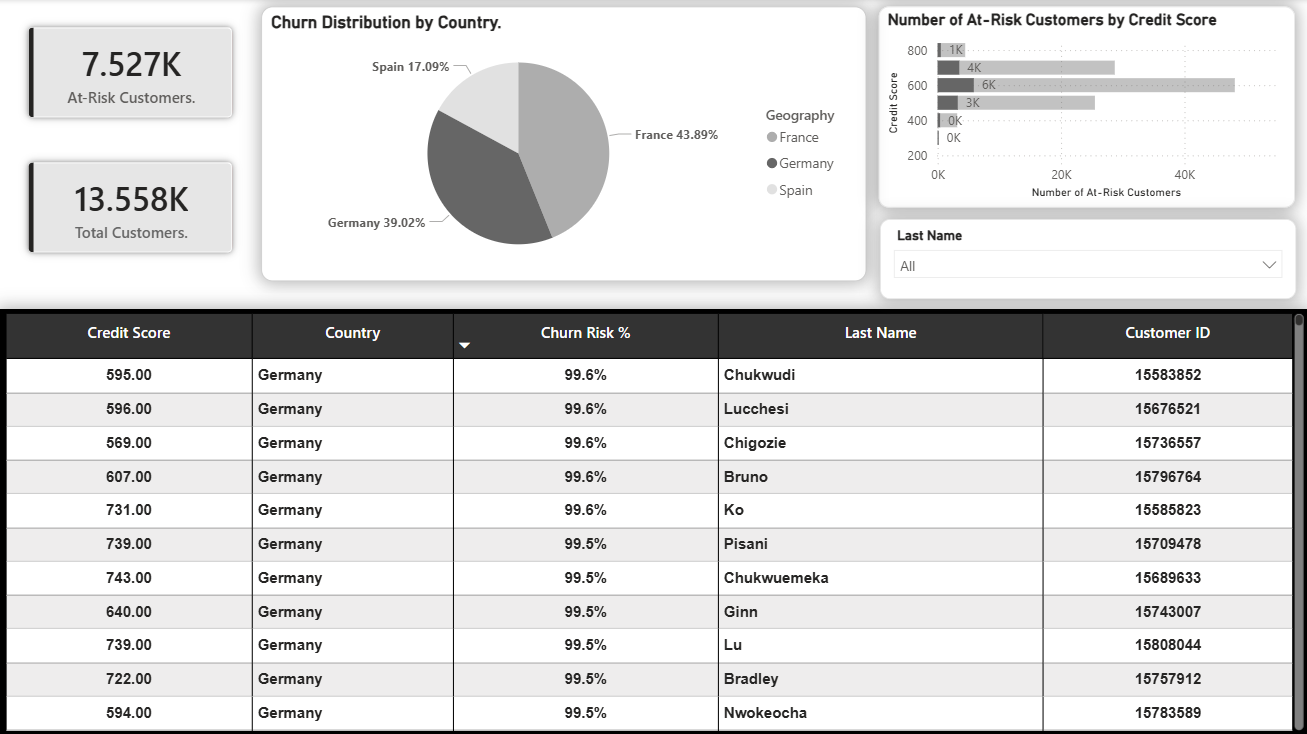

The page's visual inventory and layout, read from the dashboard file:
{"tool":"powerbi","page":{"name":"Page 1","canvas":[1280,720],"ordinal":0},"visuals":[{"type":"cardVisual","fields":{"Data":["CountNonNull(final_churn_predictions.id)"]},"box":[0,132.1,255,144],"z":0},{"type":"cardVisual","fields":{"Data":["CountNonNull(final_churn_predictions.id)"]},"box":[0,0,255.6,144.3],"z":1000},{"type":"pieChart","title":"Churn Distribution by Country.","fields":{"Category":["final_churn_predictions.Geography"],"Y":["Sum(final_churn_predictions.id)"]},"box":[255.6,7.3,591.9,269],"z":2000},{"type":"tableEx","fields":{"Values":["final_churn_predictions.CreditScore","final_churn_predictions.Geography","final_churn_predictions.Churn_Probability","final_churn_predictions.Surname","final_churn_predictions.CustomerId"]},"box":[0,303.3,1280.3,417],"z":3000},{"type":"clusteredBarChart","fields":{"Category":["final_churn_predictions.CreditScore (bins)"],"Y":["CountNonNull(final_churn_predictions.Churn_Probability)"]},"box":[859.7,7.3,407.2,196.9],"z":4000},{"type":"slicer","fields":{"Values":["final_churn_predictions.Surname"]},"box":[860.9,215.2,407.2,78.3],"z":5000}]}

Visuals, with their boxes in screenshot pixels (x1, y1, x2, y2), scaled from the page's 1280x720 canvas onto the 1307x734 screenshot:
cardVisual - CountNonNull(final_churn_predictions.id): Rect(0, 135, 260, 281)
cardVisual - CountNonNull(final_churn_predictions.id): Rect(0, 0, 261, 147)
"Churn Distribution by Country." pieChart: Rect(261, 7, 865, 282)
tableEx - final_churn_predictions.CreditScore x final_churn_predictions.Geography: Rect(0, 309, 1306, 733)
clusteredBarChart - final_churn_predictions.CreditScore (bins) x CountNonNull(final_churn_predictions.Churn_Probability): Rect(878, 7, 1294, 208)
slicer - final_churn_predictions.Surname: Rect(879, 219, 1295, 299)
